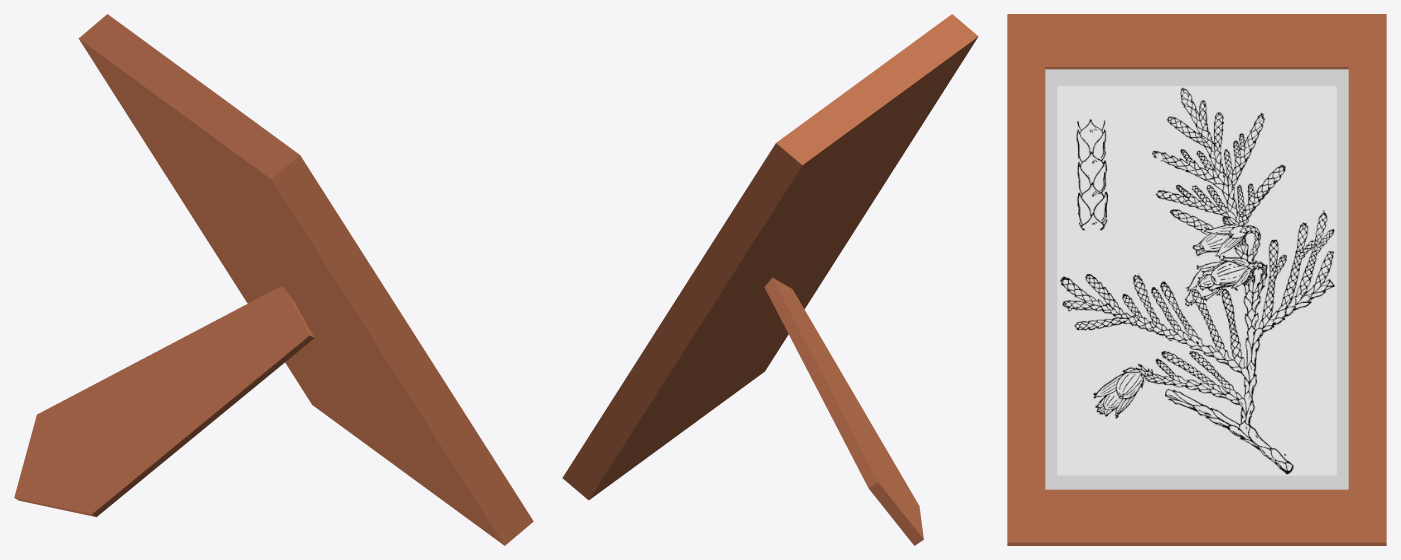
File: picture-frame-3-1.glb
3 views of the same model, side by side, from view 1: azimuth 30°, elevation 25°; view 2: azimuth 150°, elevation 25°; view 3: azimuth 270°, elevation 25° (orthographic). The views are drawn at different scales.
Visible parts, largest first — view 1: Plane, Plane.001; view 2: Plane, Plane.001; view 3: Plane.
Boxes of the visible parts, x1,y1,x2,y2 form: Plane: [78, 14, 533, 545]; Plane.001: [14, 286, 314, 516]; Plane: [562, 14, 978, 500]; Plane.001: [764, 277, 923, 545]; Plane: [1007, 14, 1386, 545].
Bounding box in the file's own units: 2.16 × 2.52 × 2.
Materials: 3 (1 with a texture image).
